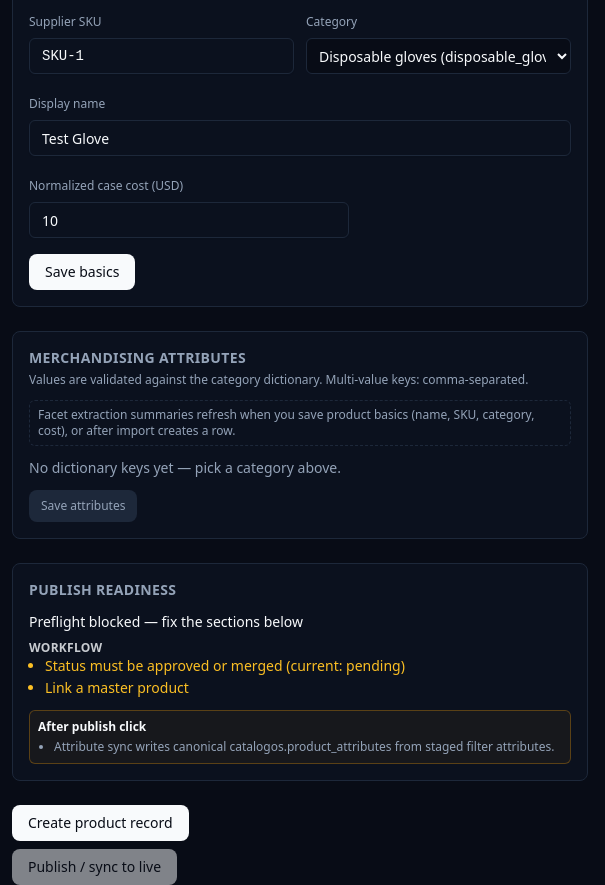
it: QuickAddPageClient › after create master, refetches staging so Tier 1 reflects server truth
The width and height of the screenshot is (605, 885).
(page scrolled)
Click the button "Create product record" at (100, 823), box [12, 805, 189, 841]
(page scrolled)
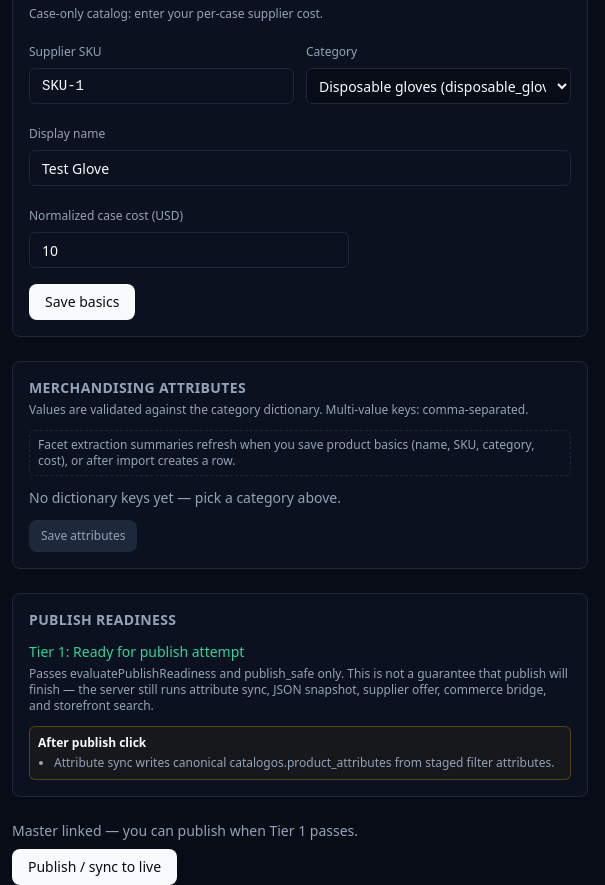
Expected: the text "Master linked — you can publish when Tier 1 passes." is shown, [12, 821, 358, 840]
Expected: the text "Tier 1: Ready for publish attempt" is shown, [29, 642, 244, 661]
